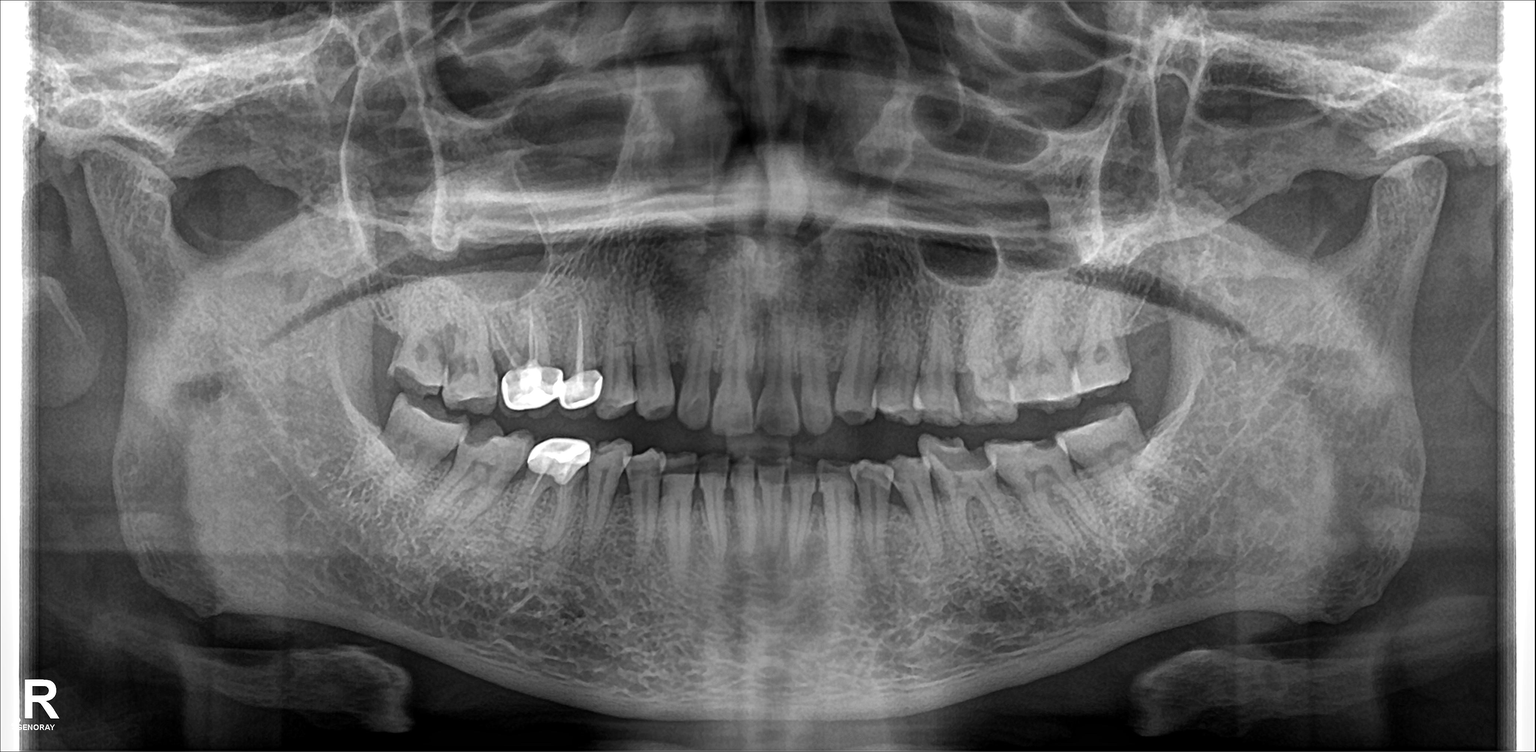Dental Caries: (931, 447, 994, 481)
Endodontically Treated Tooth: (495, 300, 557, 410), (529, 443, 585, 551), (553, 298, 602, 410)
Missing Tooth: (1123, 292, 1170, 381)
